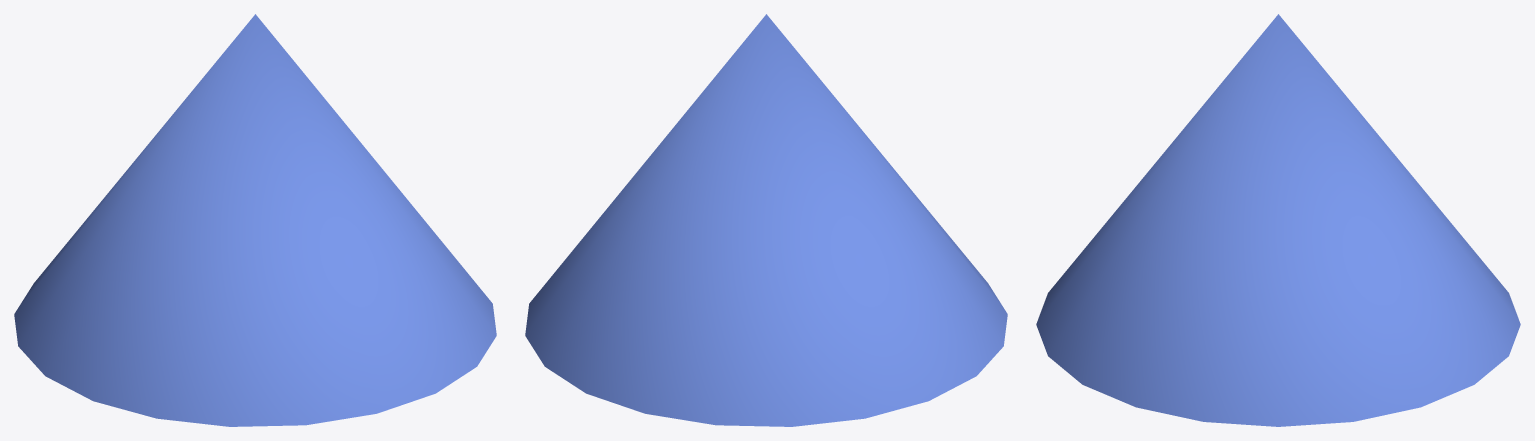
3 views of the same model, side by side, from view 1: azimuth 30°, elevation 25°; view 2: azimuth 150°, elevation 25°; view 3: azimuth 270°, elevation 25° (orthographic).
Visible parts, largest first — view 1: pCone1; view 2: pCone1; view 3: pCone1.
Boxes of the visible parts, x1,y1,x2,y2 form: pCone1: [14, 14, 496, 426]; pCone1: [525, 14, 1007, 426]; pCone1: [1036, 14, 1520, 426].
Bounding box in the file's own units: 7.14 × 5.05 × 7.14.
